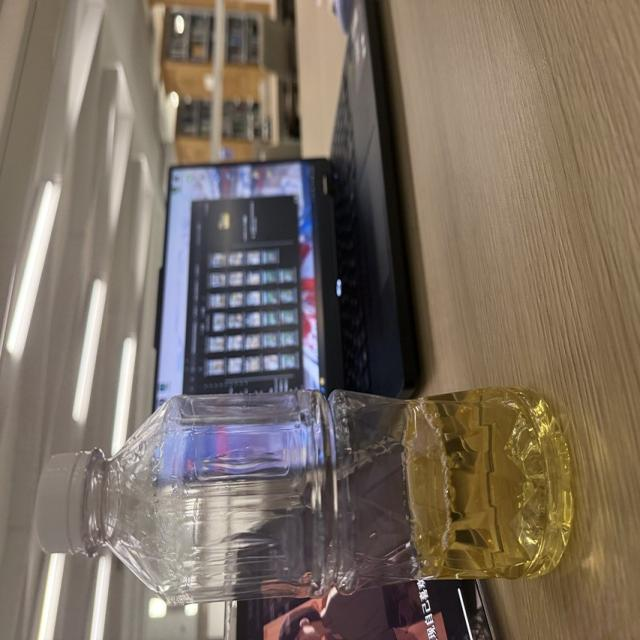low: (37, 387, 570, 604)
